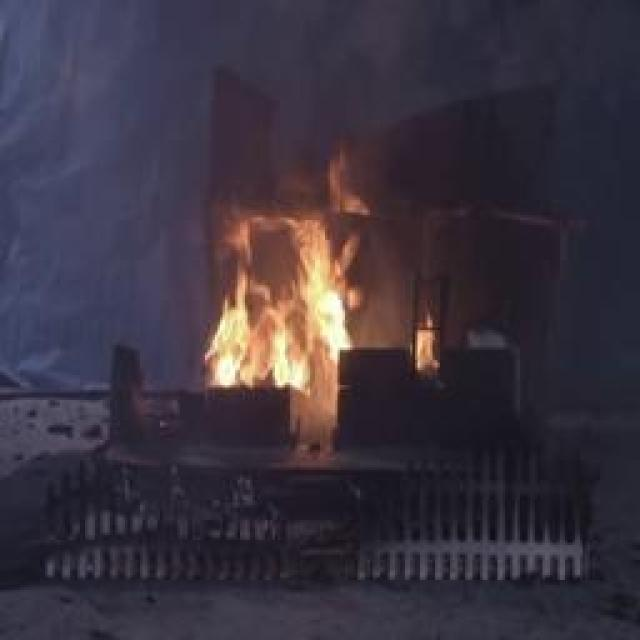fire: (210, 170, 365, 425)
